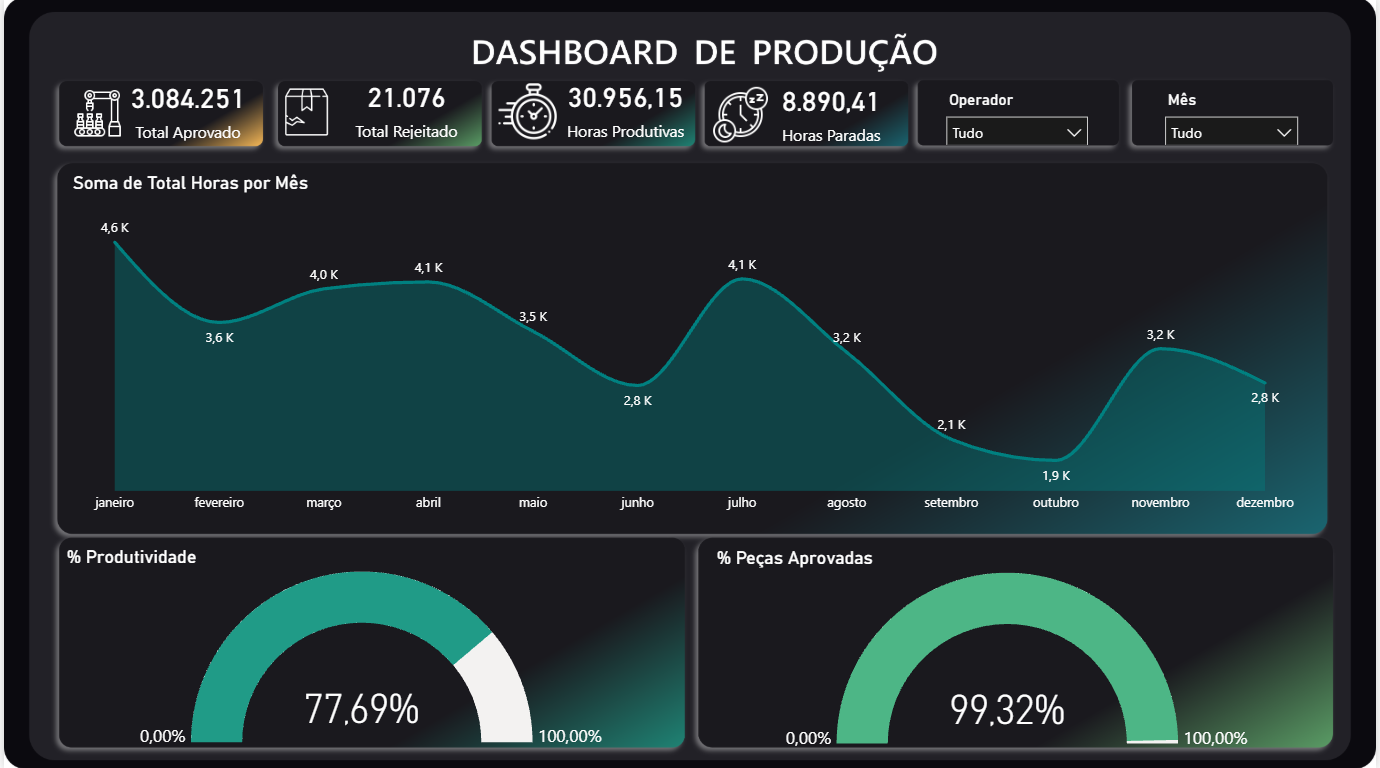

This screenshot's page, from the dashboard's own definition file:
{"tool":"powerbi","page":{"name":"Página 1","canvas":[1280,720],"ordinal":0},"visuals":[{"type":"card","fields":{"Values":["BaseProdução.Total Aprovado"]},"box":[111.1,67.2,122.1,71.4],"z":0},{"type":"card","fields":{"Values":["BaseProdução.Total Rejeitado"]},"box":[312.9,67.2,126.2,70],"z":1000},{"type":"card","fields":{"Values":["BaseProdução.Horas Produtivas"]},"box":[510.5,65.9,138.6,74.1],"z":2000},{"type":"card","fields":{"Values":["BaseProdução.Horas Paradas"]},"box":[706.7,67.2,130.4,78.2],"z":3000},{"type":"areaChart","fields":{"Y":["Sum(BaseProdução.Total Horas)"],"Category":["BaseProdução.Data Inicio.Variation.Hierarquia de datas.Mês"]},"box":[59,163.3,1160.9,326.6],"z":4000},{"type":"gauge","fields":{"Y":["BaseProdução.% Produtividade"]},"box":[53.5,511.8,577.7,193.5],"z":5000},{"type":"gauge","fields":{"Y":["BaseProdução.% Peças Aprovadas"]},"box":[660,513.2,569.5,193.5],"z":6000},{"type":"slicer","fields":{"Values":["BaseProdução.Operador"]},"box":[868.6,82.3,152.3,54.9],"z":7000},{"type":"slicer","fields":{"Values":["BaseProdução.Data Inicio.Variation.Hierarquia de datas.Mês"]},"box":[1073.1,82.3,144.1,54.9],"z":8000},{"type":"image","box":[53.5,81,67.2,56.3],"z":9000},{"type":"image","box":[253.9,81,59,53.5],"z":10000},{"type":"image","box":[649.1,78.2,75.5,63.1],"z":11000},{"type":"image","box":[452.8,74.1,71.4,64.5],"z":12000}]}

Visuals, with their boxes in screenshot pixels (x1, y1, x2, y2), scaled from the page's 1280x720 canvas onto the 1380x768 screenshot:
card - BaseProdução.Total Aprovado: region(120, 72, 251, 148)
card - BaseProdução.Total Rejeitado: region(337, 72, 473, 146)
card - BaseProdução.Horas Produtivas: region(550, 70, 700, 149)
card - BaseProdução.Horas Paradas: region(762, 72, 902, 155)
areaChart - Sum(BaseProdução.Total Horas) x BaseProdução.Data Inicio.Variation.Hierarquia de datas.Mês: region(64, 174, 1315, 523)
gauge - BaseProdução.% Produtividade: region(58, 546, 681, 752)
gauge - BaseProdução.% Peças Aprovadas: region(712, 547, 1326, 754)
slicer - BaseProdução.Operador: region(936, 88, 1101, 146)
slicer - BaseProdução.Data Inicio.Variation.Hierarquia de datas.Mês: region(1157, 88, 1312, 146)
image: region(58, 86, 130, 146)
image: region(274, 86, 337, 143)
image: region(700, 83, 781, 151)
image: region(488, 79, 565, 148)
